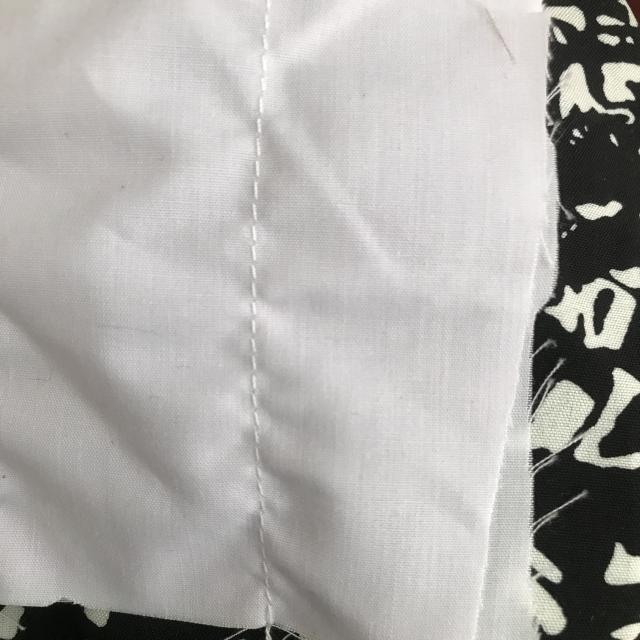good: (231, 208, 268, 467), (242, 91, 288, 191)
